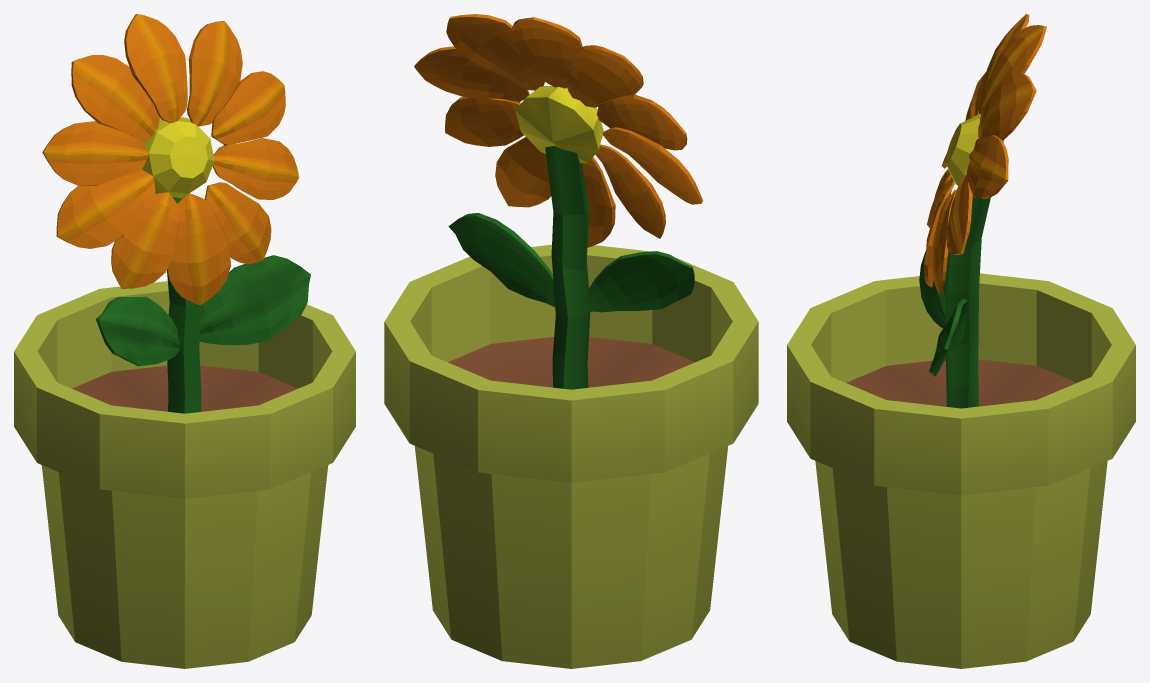
File: OfficeandEnv_Flor.fbx
The picture shows the model from 3 angles, left to right: view 1: azimuth 30°, elevation 25°; view 2: azimuth 150°, elevation 25°; view 3: azimuth 270°, elevation 25°; orthographic projection. The views are drawn at different scales.
Parts seen in each view (by area): view 1: Flor; view 2: Flor; view 3: Flor.
Part boxes in pixels (x1,y1,x2,y2): Flor: [14, 14, 355, 668]; Flor: [384, 14, 758, 668]; Flor: [787, 14, 1135, 668].
Bounding box in the file's own units: 76.82 × 142 × 76.82.
